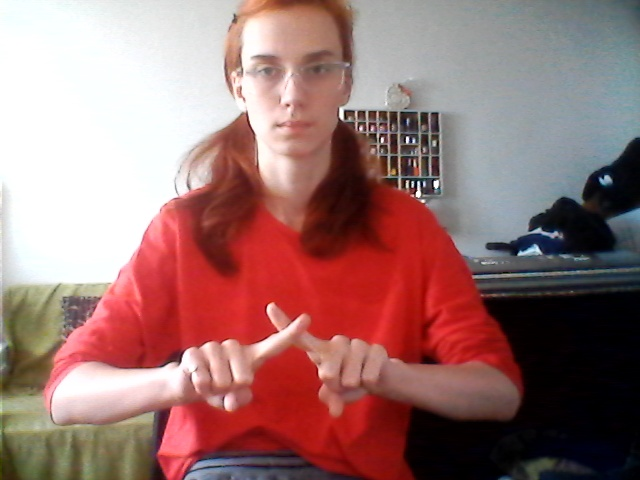x: (183, 287, 388, 418)
